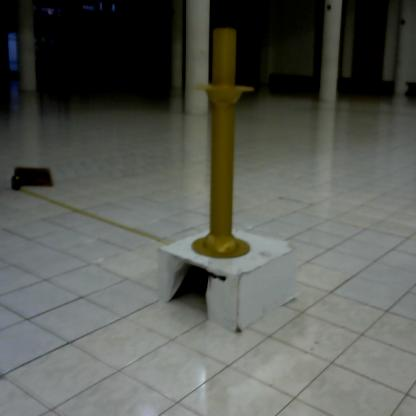pole: (183, 20, 261, 264)
